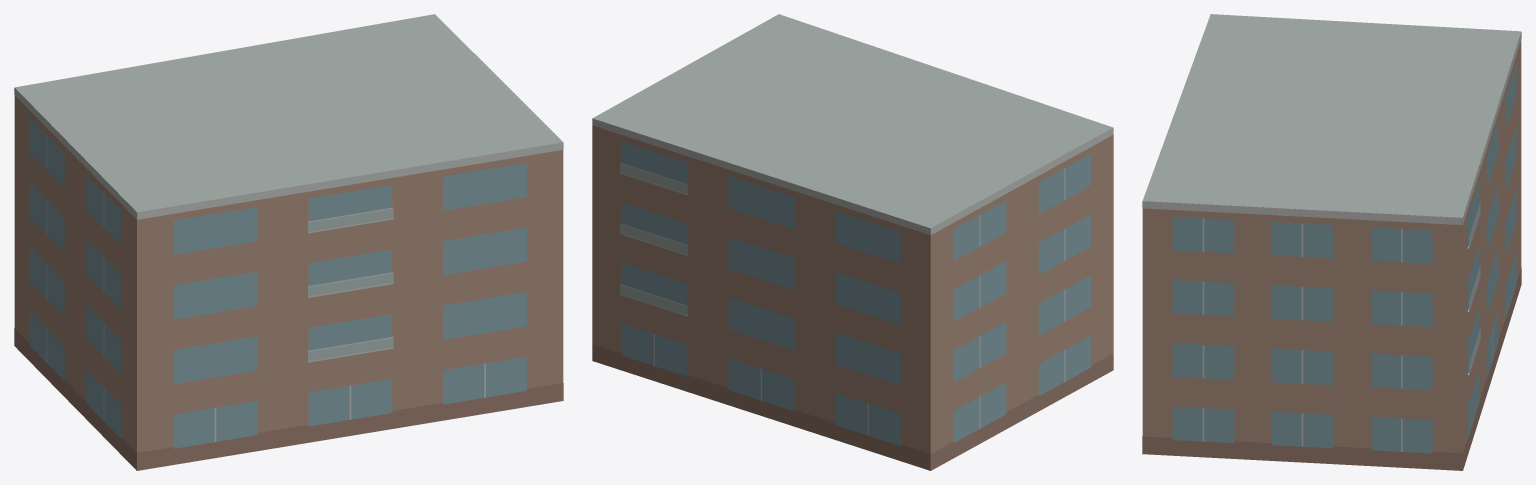
The model's file is survey-upis-32828223.glb.
3 renders of one model, left to right at view 1: azimuth 30°, elevation 25°; view 2: azimuth 150°, elevation 25°; view 3: azimuth 270°, elevation 25°, orthographic. The views are drawn at different scales.
Parts seen in each view (by area): view 1: survey-upis-32828223.tmp; view 2: survey-upis-32828223.tmp; view 3: survey-upis-32828223.tmp.
Boxes of the visible parts, x1,y1,x2,y2 form: survey-upis-32828223.tmp: [14, 14, 563, 470]; survey-upis-32828223.tmp: [592, 14, 1113, 470]; survey-upis-32828223.tmp: [1142, 14, 1521, 470].
Size of the model in its own units: 14.7 by 8.5 by 11.55.
